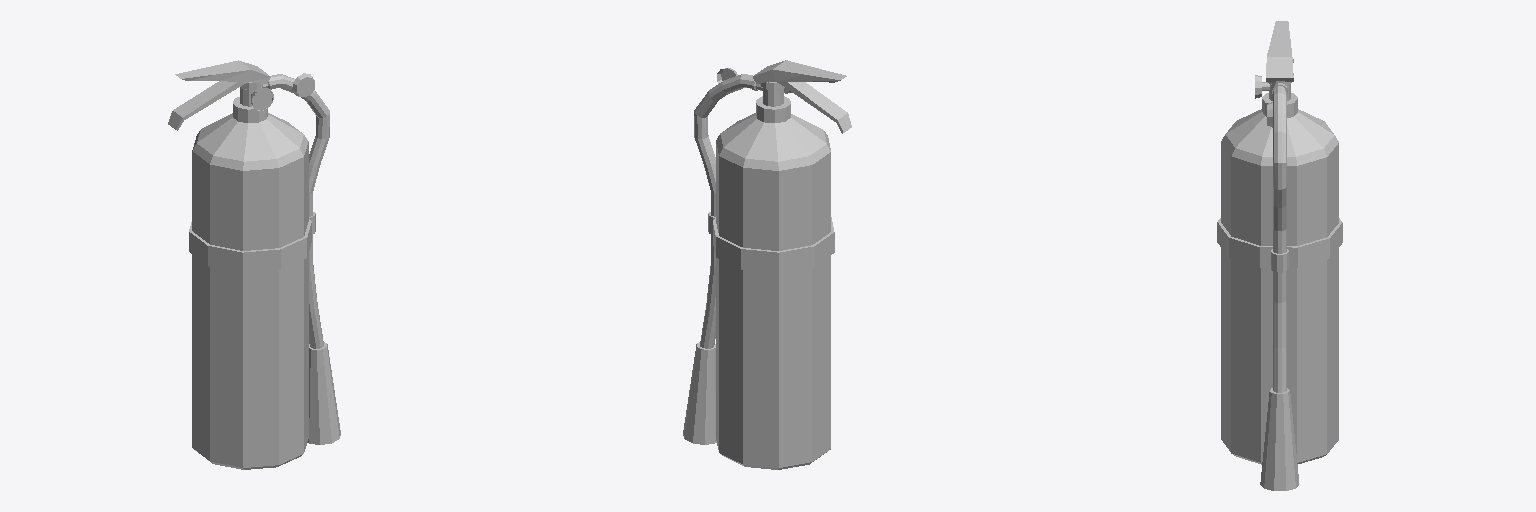
File: extintor_LoD_1.obj
The picture shows the model from 3 angles: view 1: azimuth 30°, elevation 25°; view 2: azimuth 150°, elevation 25°; view 3: azimuth 270°, elevation 25°; orthographic projection.
Parts seen in each view (by area): view 1: FireExtinguisher_Mesh.002; view 2: FireExtinguisher_Mesh.002; view 3: FireExtinguisher_Mesh.002.
Boxes of the visible parts, box(x1,y1,x2,y2) form: FireExtinguisher_Mesh.002: box(168, 60, 340, 469); FireExtinguisher_Mesh.002: box(683, 60, 851, 469); FireExtinguisher_Mesh.002: box(1217, 21, 1342, 490).
Bounding box in the file's own units: 0.4739 × 1.09 × 0.3133.